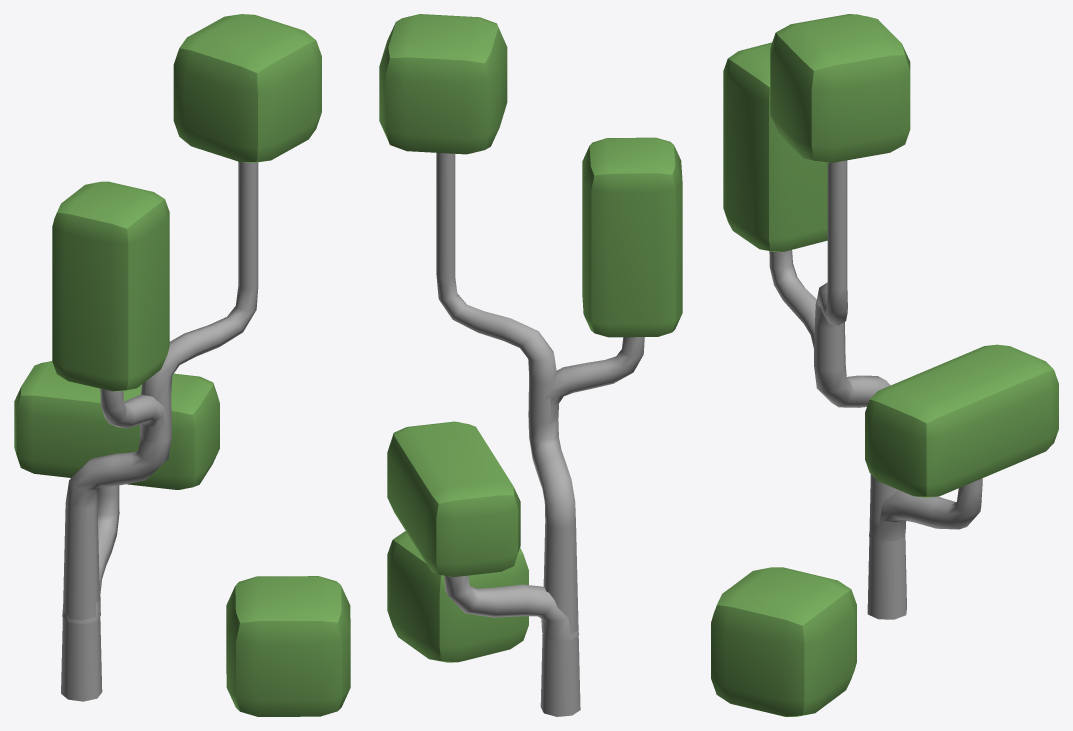
The model's file is foliage_02.fbx.
3 views of the same model, side by side, from view 1: azimuth 30°, elevation 25°; view 2: azimuth 150°, elevation 25°; view 3: azimuth 270°, elevation 25° (orthographic). The views are drawn at different scales.
Visible parts, largest first — view 1: foliage_02; view 2: foliage_02; view 3: foliage_02.
Boxes of the visible parts, <box> form: foliage_02: <box>14,14,350,716</box>; foliage_02: <box>379,14,682,716</box>; foliage_02: <box>711,14,1058,716</box>.
Bounding box in the file's own units: 8.15 × 17.44 × 8.31.
